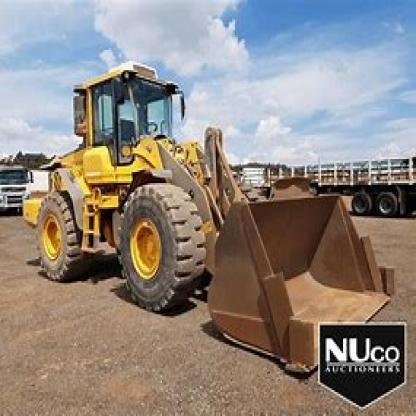bull_dozer/loader/grader: (10, 52, 412, 382)
